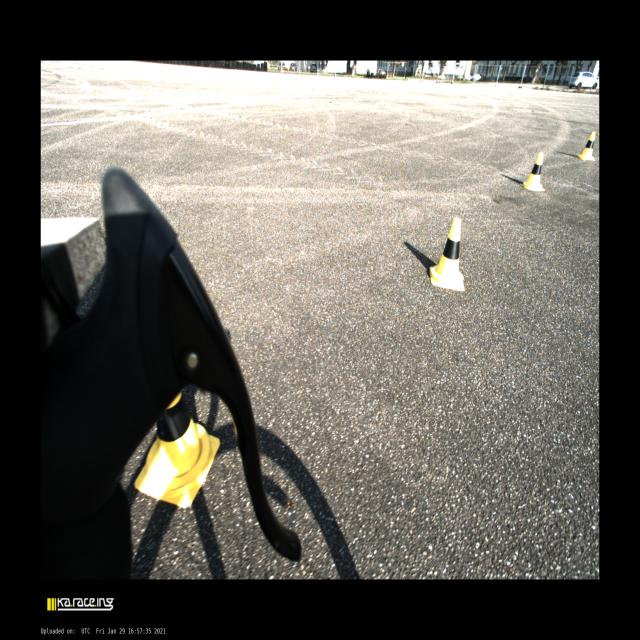yellow_cone: (134, 391, 220, 508), (430, 218, 465, 292), (520, 152, 545, 191), (576, 132, 596, 161)
